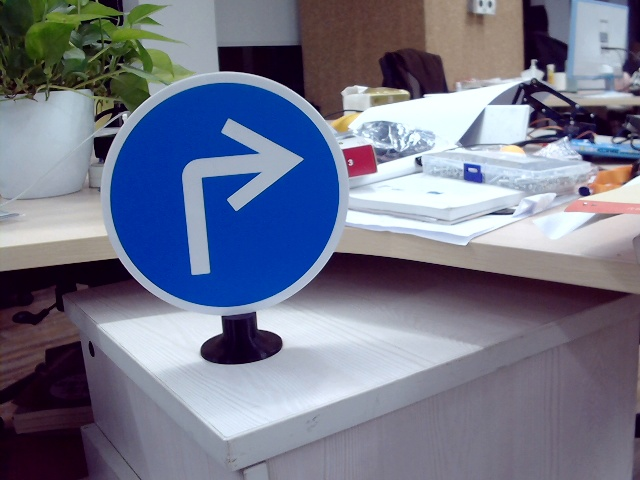turn_right: (166, 114, 306, 275)
